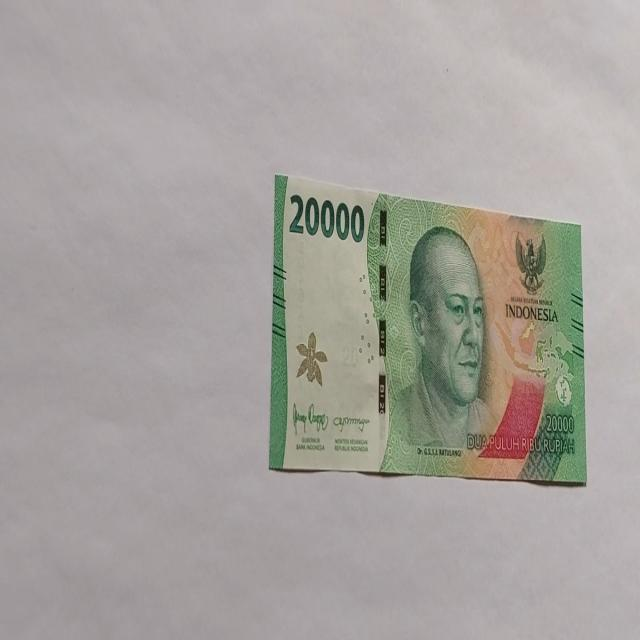dua puluh ribu rupiah: (268, 172, 586, 484), (386, 223, 500, 469)
